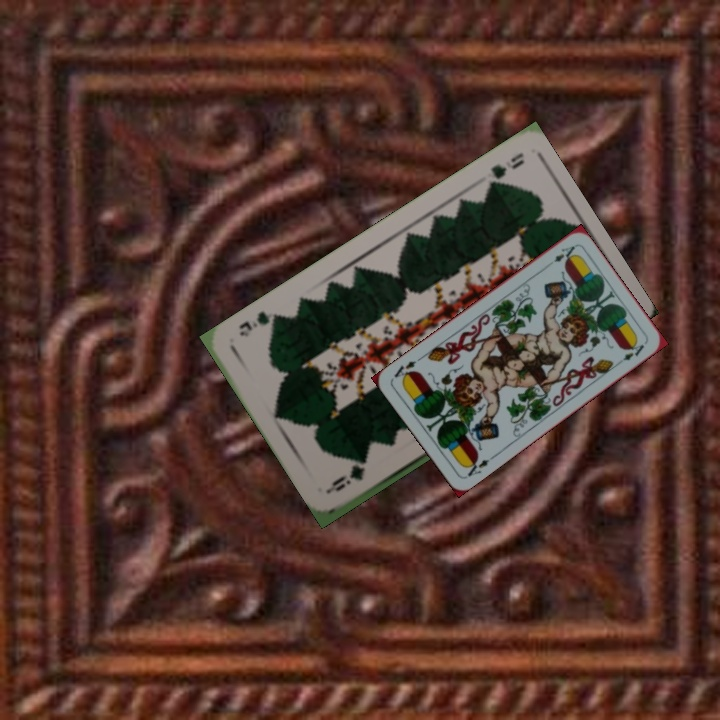EA: (461, 452, 497, 479), (550, 242, 578, 265)
G9: (481, 148, 527, 193), (328, 462, 368, 494)
